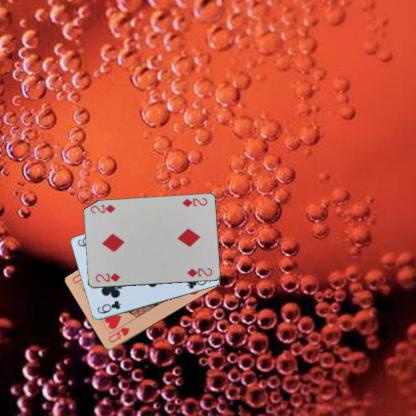2d: (93, 271, 121, 283), (180, 196, 208, 208)
6c: (95, 298, 122, 315)
Qh: (106, 325, 131, 344)
